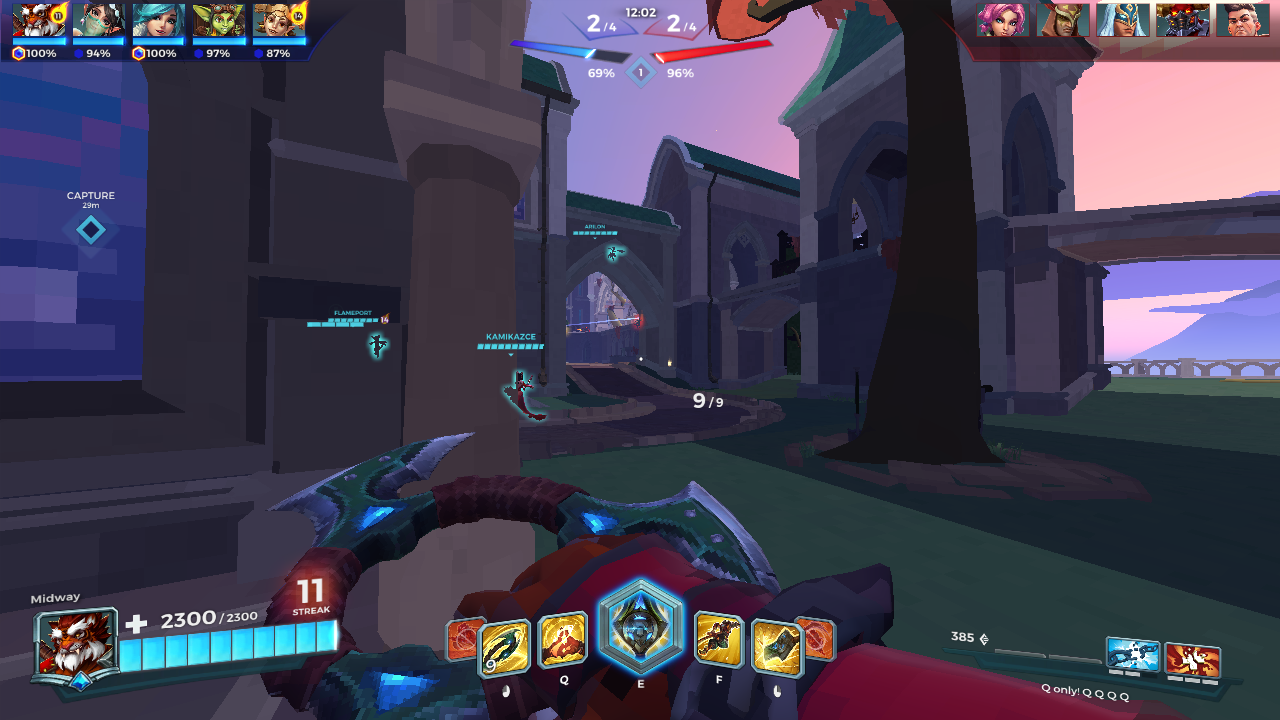model: (635, 314, 642, 332)
